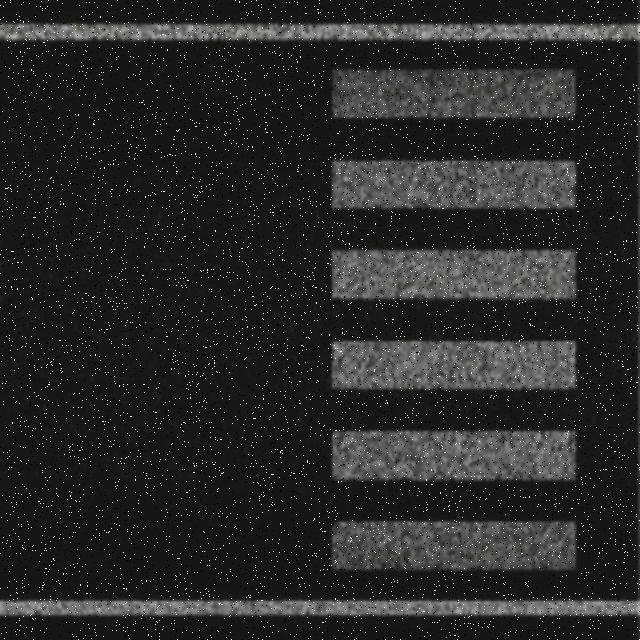crosswalk: (334, 64, 580, 578)
